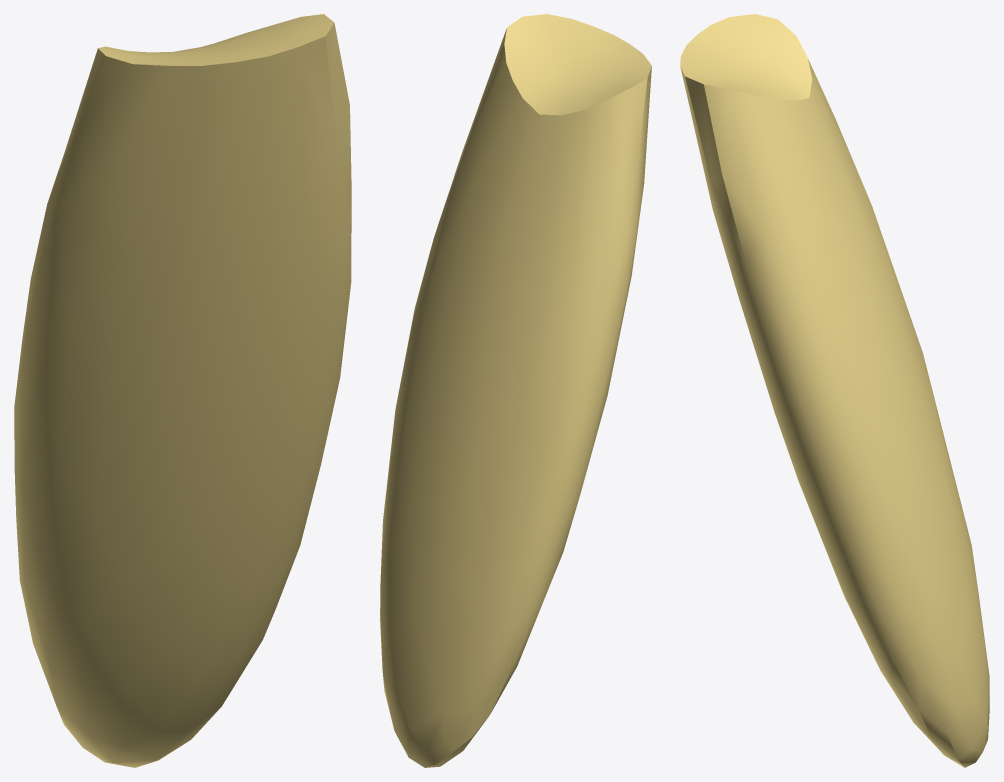
Rendered from fma73776_mm3504m.glb.
The picture shows the model from 3 angles, left to right: view 1: azimuth 30°, elevation 25°; view 2: azimuth 150°, elevation 25°; view 3: azimuth 270°, elevation 25°; orthographic projection. The views are drawn at different scales.
Visible parts, largest first — view 1: FMA73776_MM3504M; view 2: FMA73776_MM3504M; view 3: FMA73776_MM3504M.
Part boxes in pixels (x1,y1,x2,y2): FMA73776_MM3504M: (14,14,351,767); FMA73776_MM3504M: (380,14,651,767); FMA73776_MM3504M: (680,14,989,767).
Size of the model in its own units: 0.00241 by 0.00676 by 0.00274.
